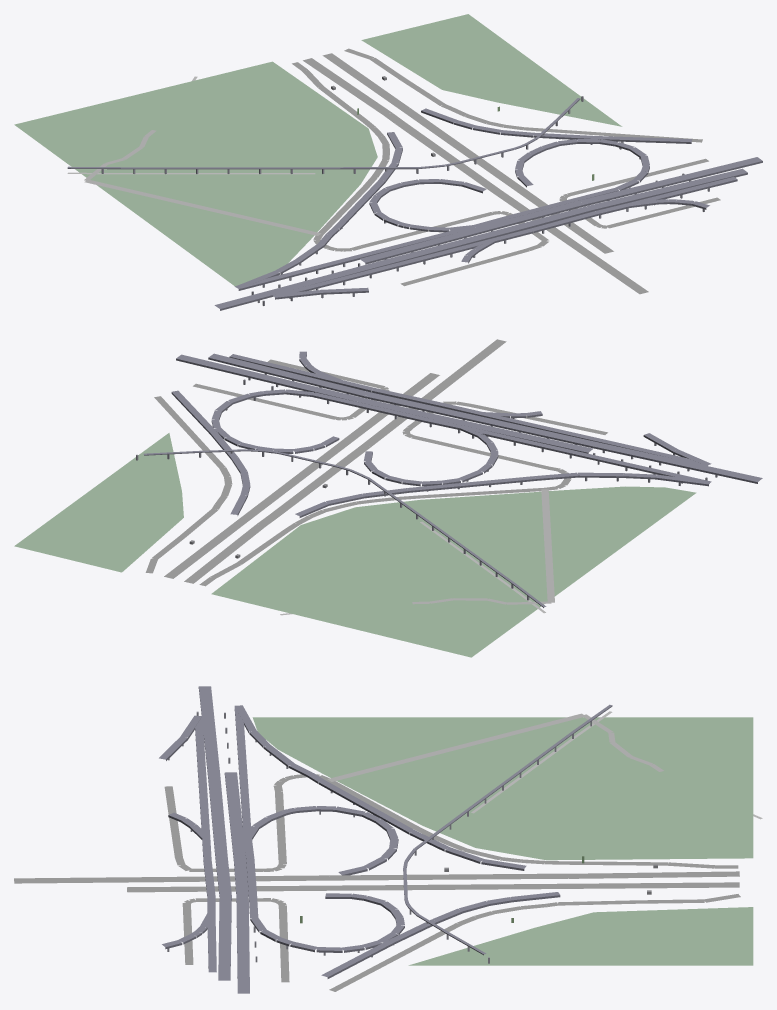
The picture shows the model from 3 angles, top to bottom: view 1: azimuth 30°, elevation 25°; view 2: azimuth 150°, elevation 25°; view 3: azimuth 270°, elevation 25°; orthographic projection. The views are drawn at different scales.
Bounding box in the file's own units: 617 × 9.69 × 638.
